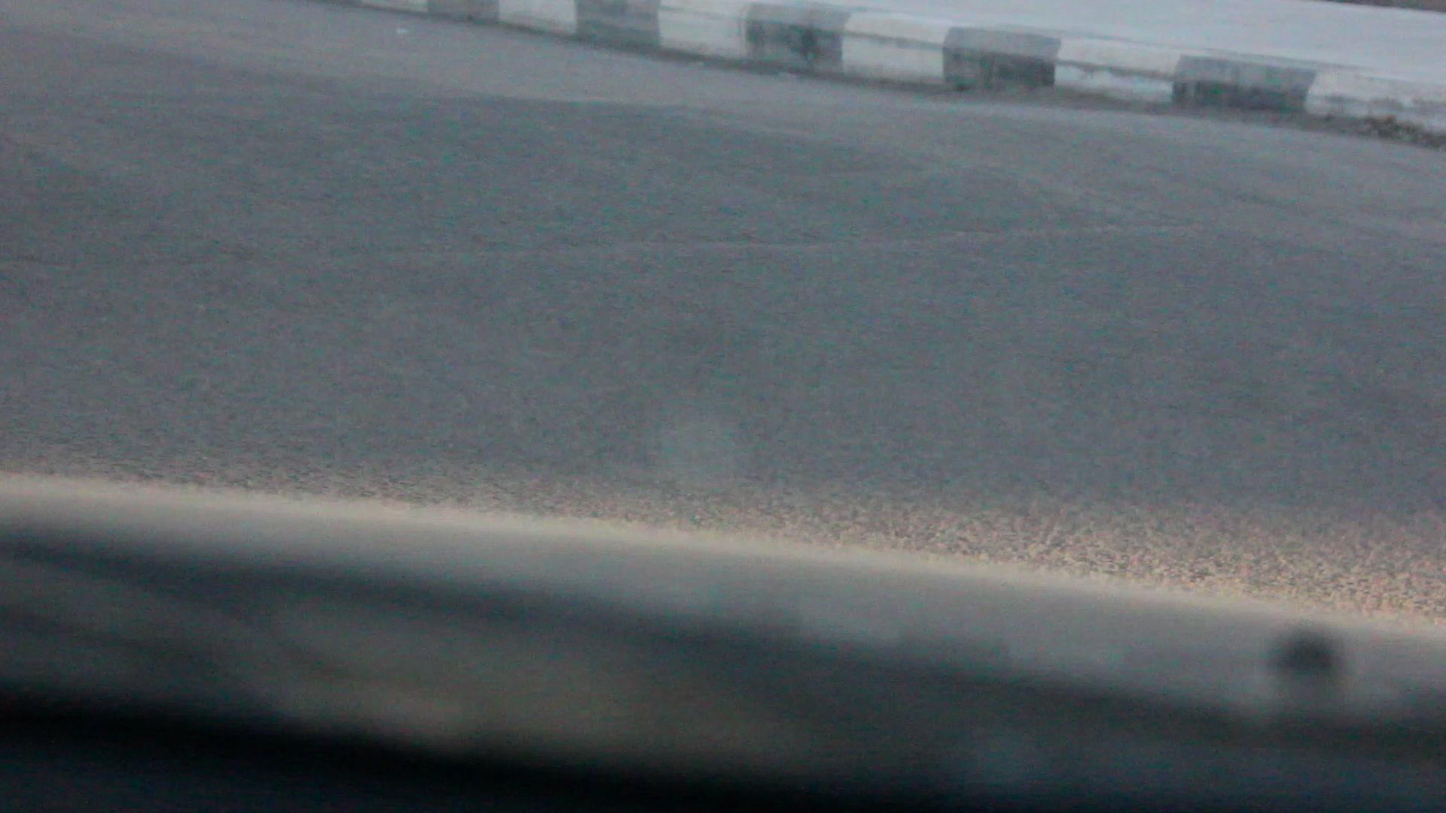Bump: (0, 90, 1445, 304)
